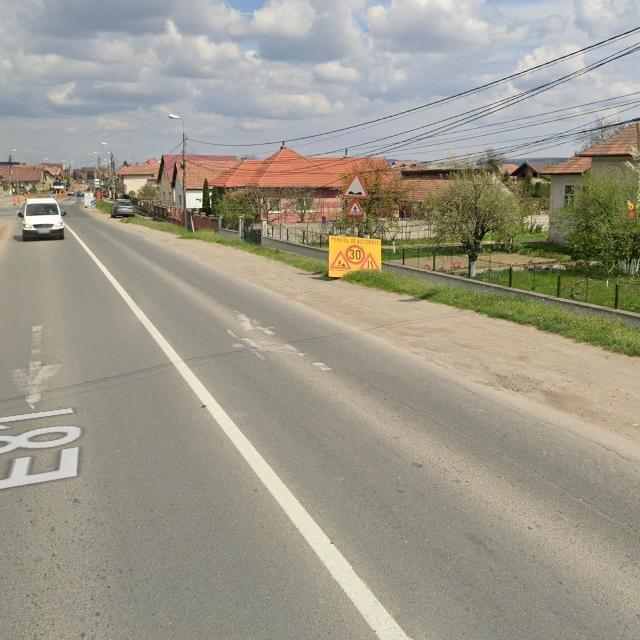forb_speed_over_30: (346, 244, 365, 267)
